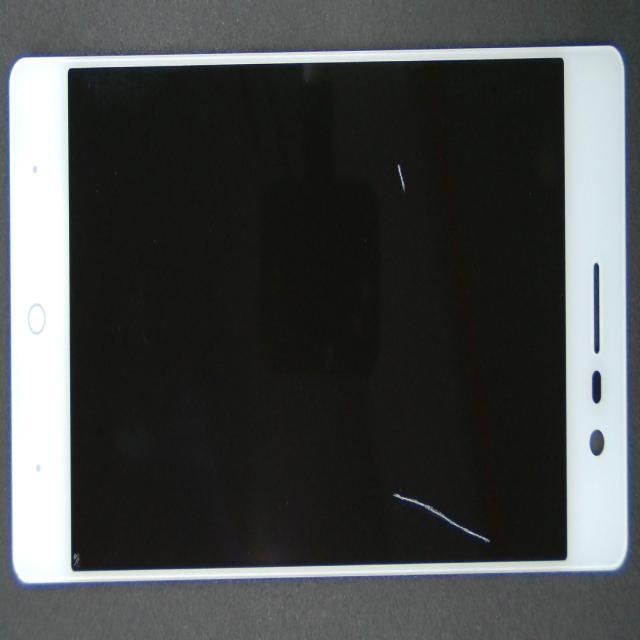scratch: (384, 474, 494, 552), (387, 156, 412, 201)
